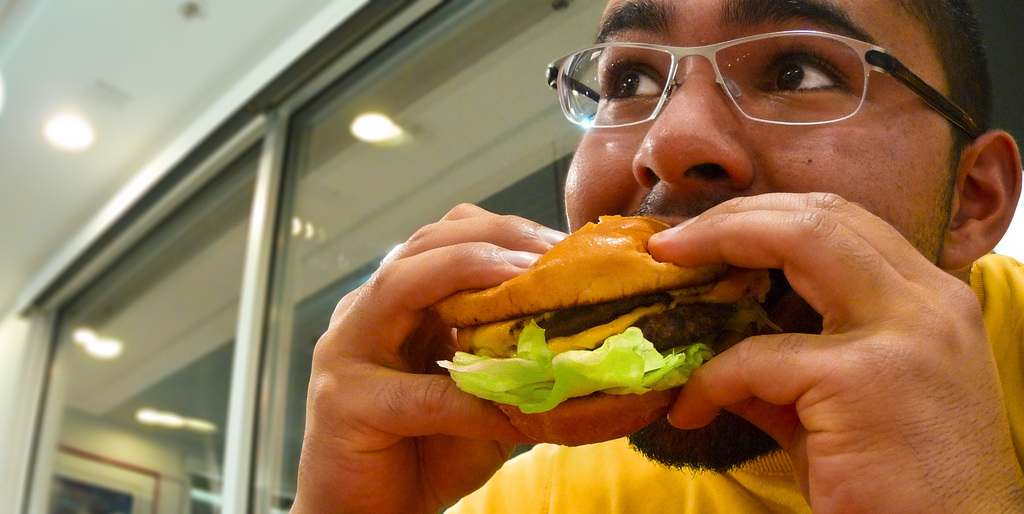Hamburger: (435, 211, 789, 441)
